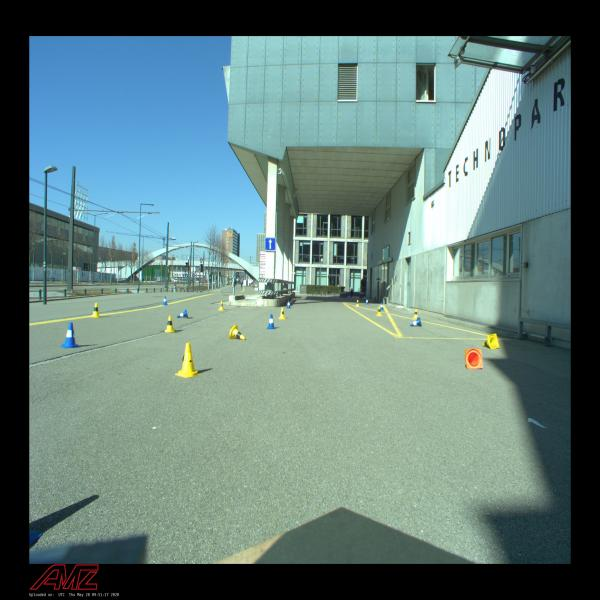blue_cone: (62, 322, 78, 348), (267, 314, 276, 329), (410, 317, 422, 327), (177, 308, 188, 318), (286, 300, 292, 309), (162, 296, 168, 305), (380, 302, 384, 311), (365, 298, 369, 304)
orange_cone: (465, 348, 483, 369)
yellow_cone: (175, 342, 201, 378), (482, 334, 499, 350), (228, 325, 246, 340), (164, 316, 176, 332), (91, 303, 101, 318), (279, 308, 286, 320), (413, 309, 419, 319), (376, 306, 382, 316), (218, 300, 224, 310), (356, 300, 360, 307)
